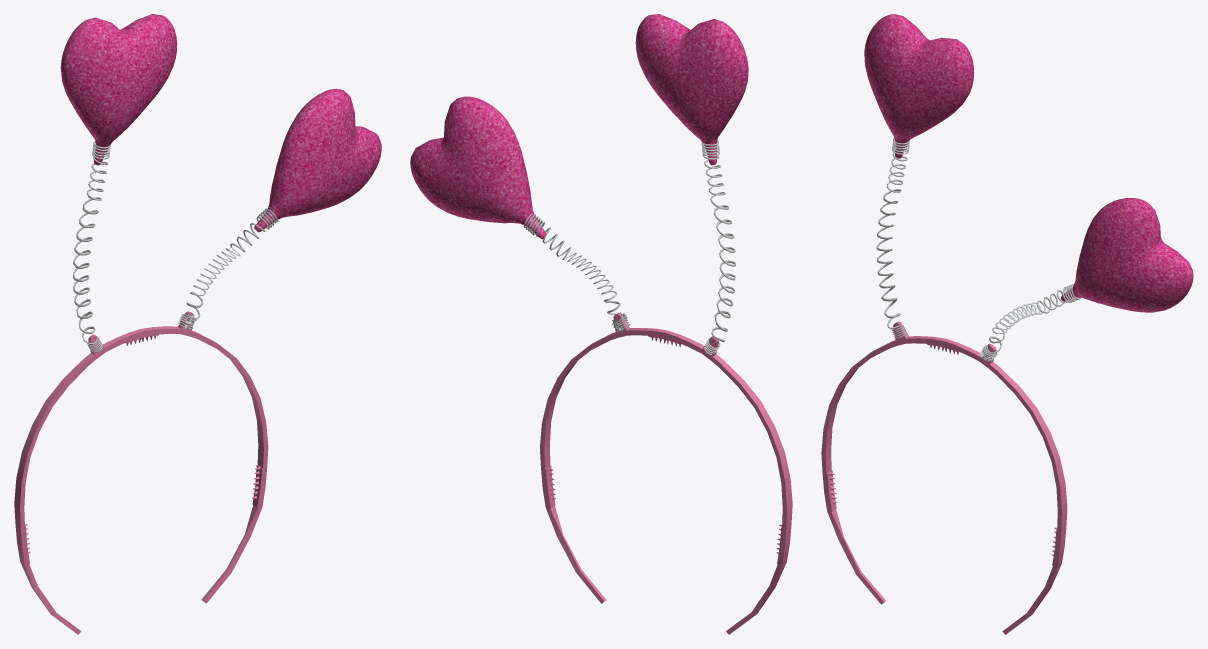
The picture shows the model from 3 angles, left to right: view 1: azimuth 30°, elevation 25°; view 2: azimuth 150°, elevation 25°; view 3: azimuth 330°, elevation 25°; orthographic projection. The views are drawn at different scales.
Parts seen in each view (by area): view 1: Hairband; view 2: Hairband; view 3: Hairband.
Part boxes in pixels (left/top/right/bottom): Hairband: left=14, top=14, right=381, bottom=634; Hairband: left=410, top=14, right=792, bottom=634; Hairband: left=821, top=14, right=1193, bottom=634.
Bounding box in the file's own units: 1.75 × 2.75 × 0.28.
Materials: 1 (1 with a texture image).
